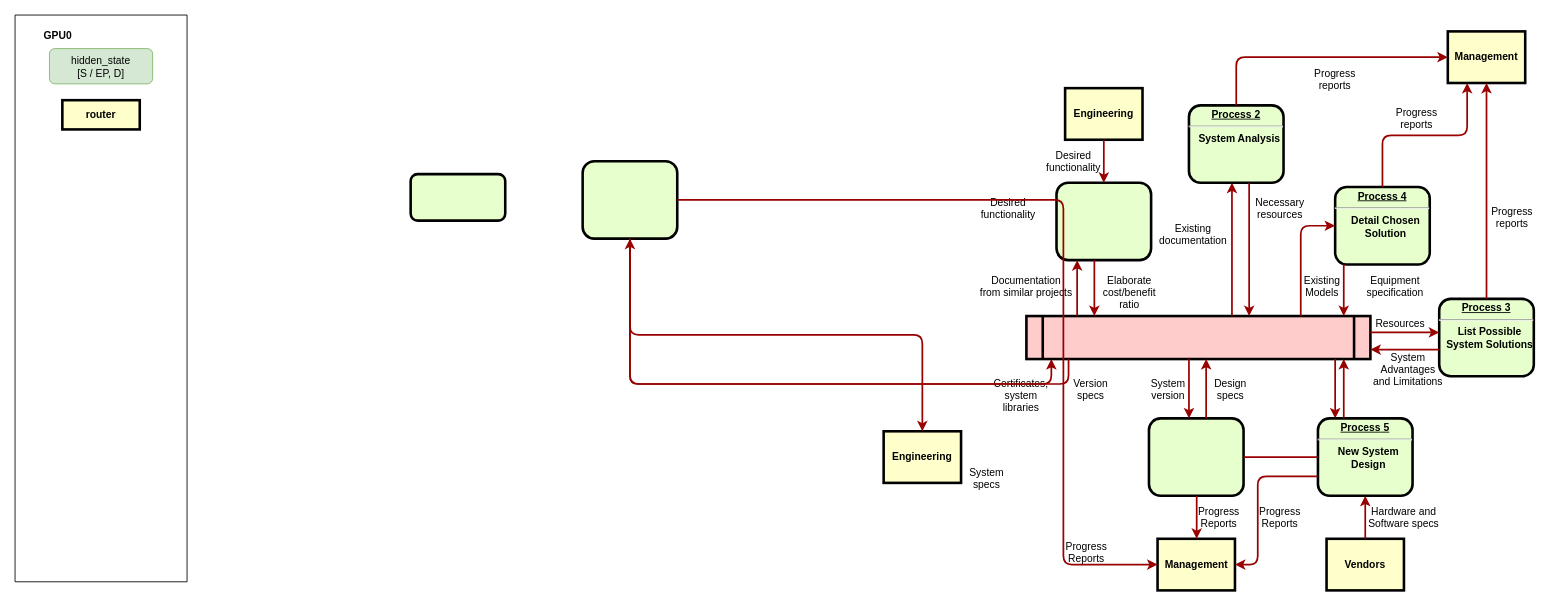
Some shapes in this 1550 by 606 pixel diagram are drawn without their labels. Here are the shapes that lost their labels. From the top down, the box of each, then its label:
(409, 172, 506, 221): [S/EP, D] hidden_state
(581, 160, 678, 240): Process 6 New System Construction
(1055, 181, 1152, 261): Process 1 System Study Preparation
(1025, 314, 1371, 360): ON-DEMAND SYSTEM DEVELOPMENT
(1147, 417, 1244, 497): Process 7 New System Startup and Testing
